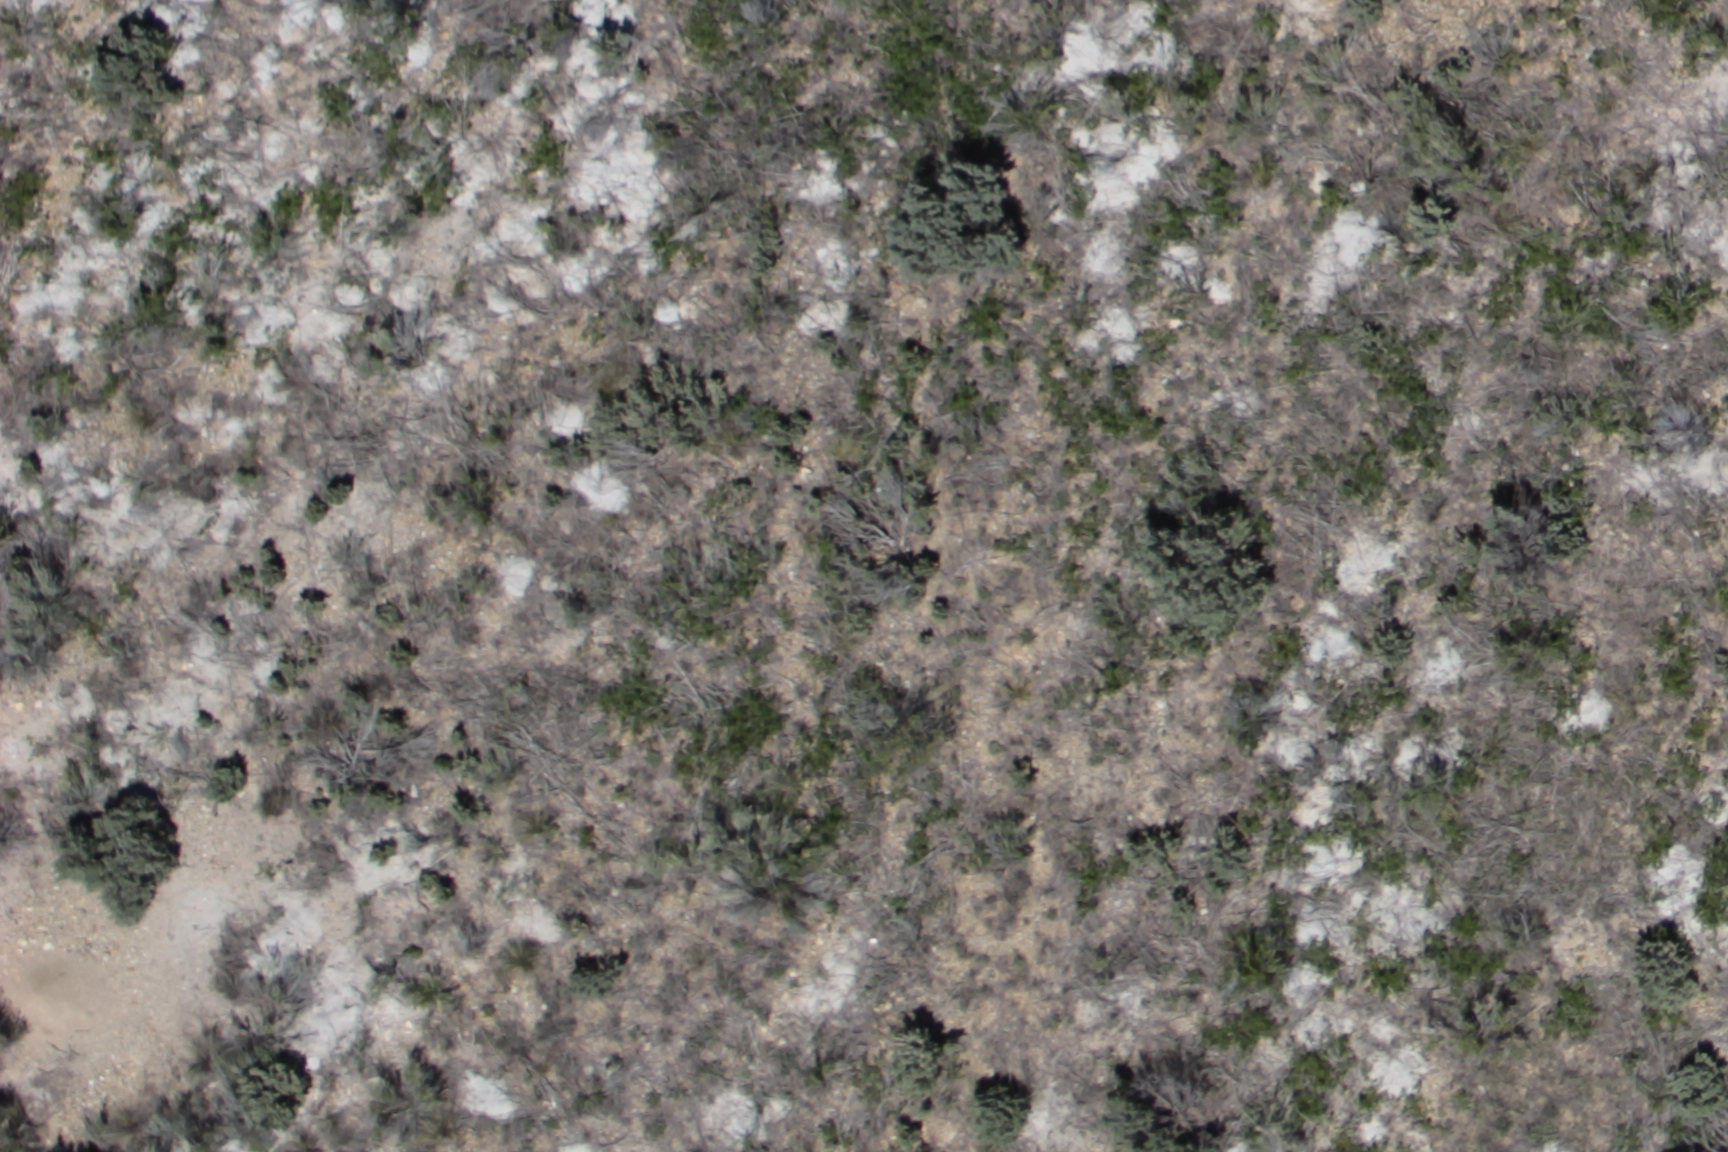burrow: (1, 924, 103, 1085)
